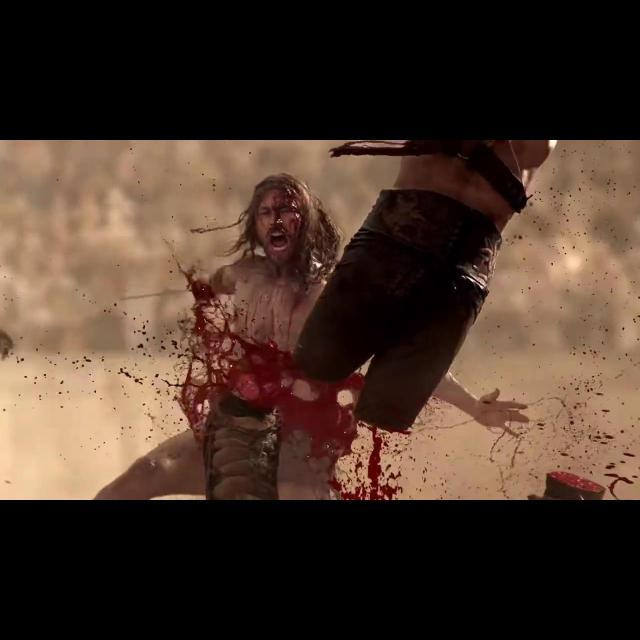blood: (178, 264, 402, 500), (492, 378, 640, 499)
